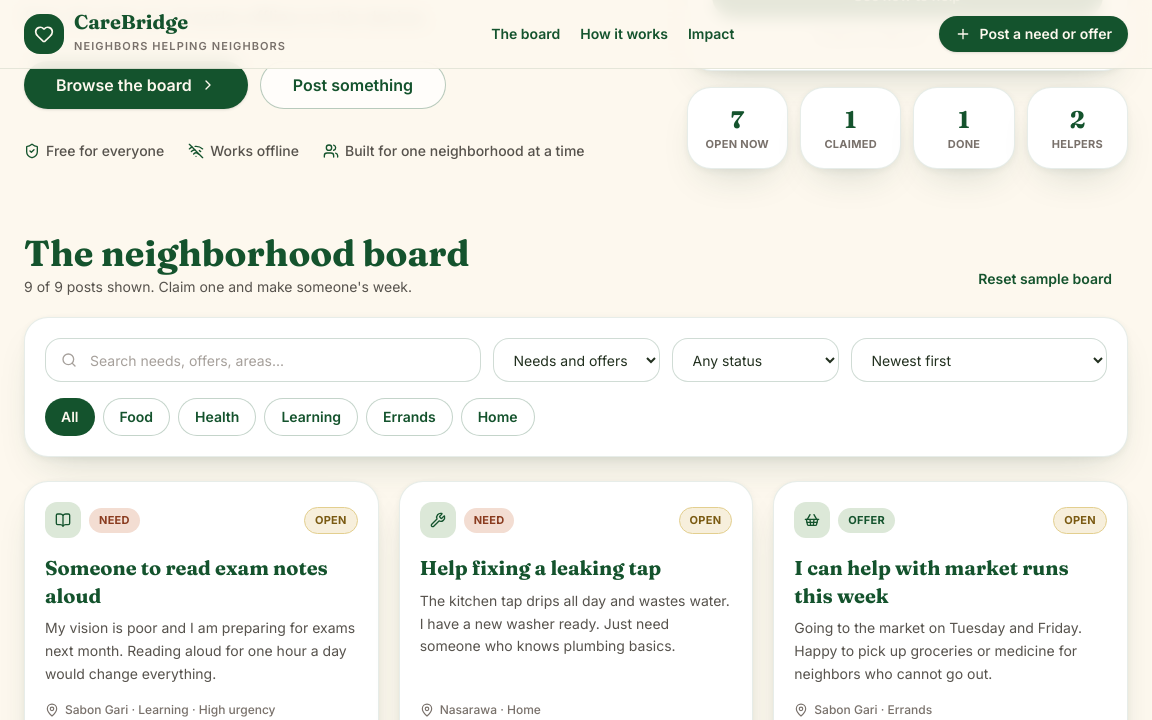
Test: CareBridge app › filters the board by search
(page scrolled)
Type "maths" into the field named "Search posts" at (263, 360), box [45,338,480,382]
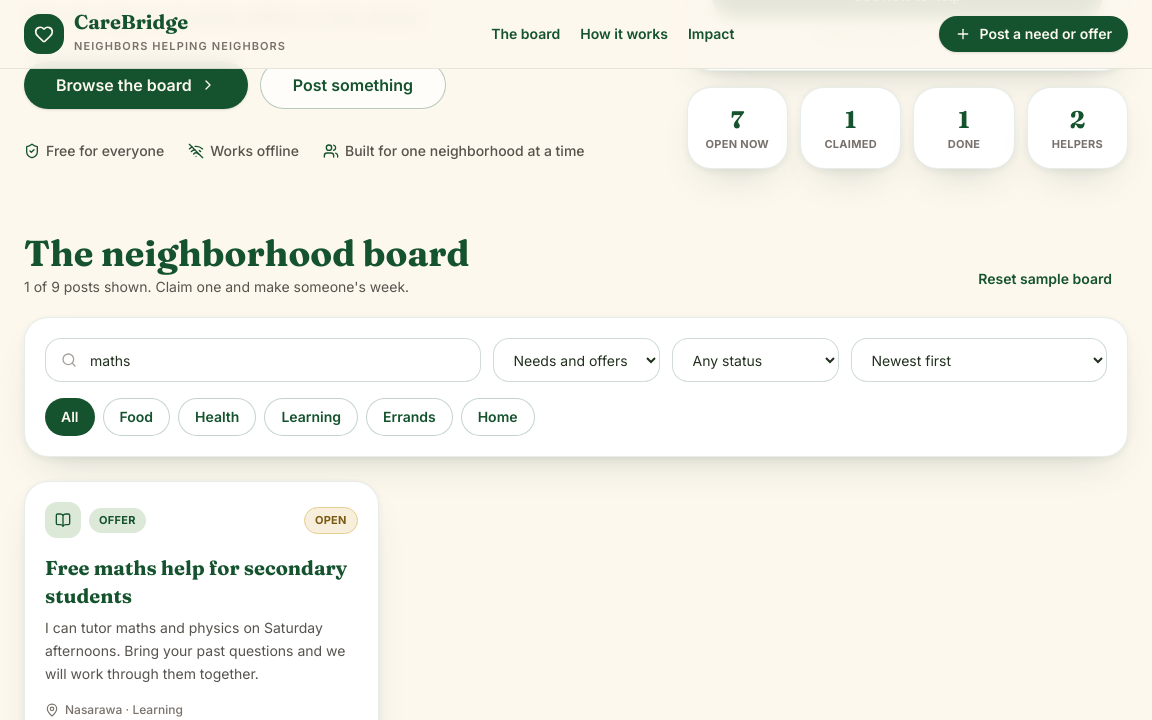
Expected: the heading "Free maths help for secondary students" is shown, [45,554,358,609]
Result: the text "1 of 9 posts shown. Claim one and make someone's week." is shown at [24,277,470,297]
